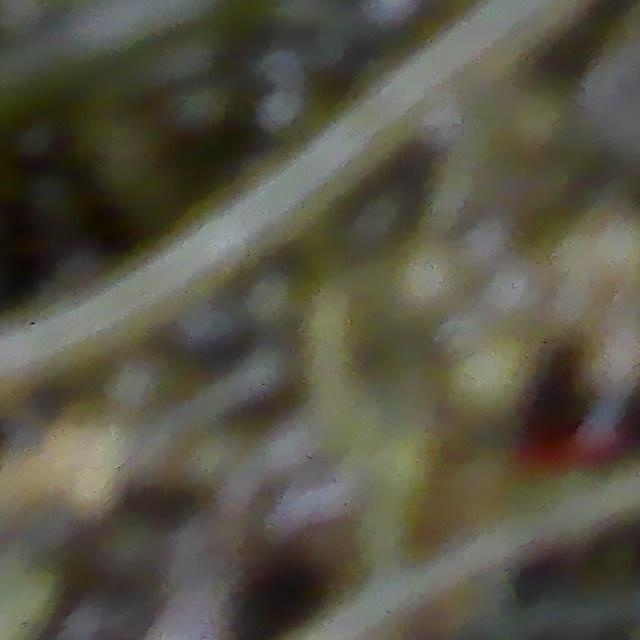SeaGrape: (82, 111, 166, 198), (166, 77, 232, 137), (22, 171, 82, 231)
